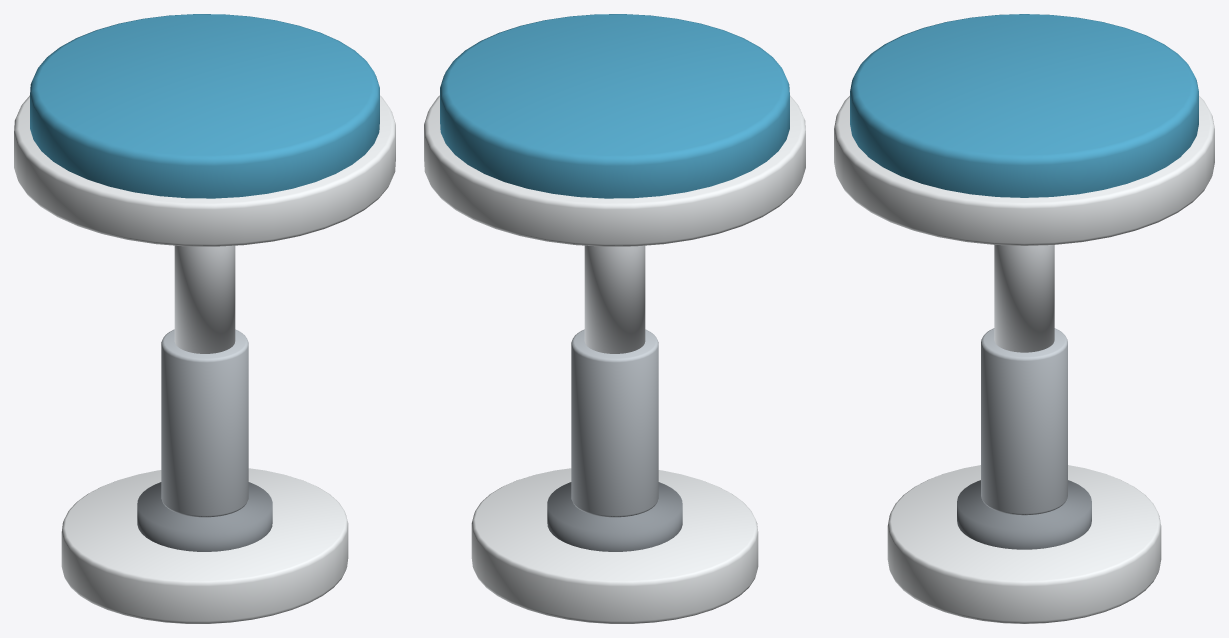
The model's file is scaun.fbx.
3 renders of one model, left to right at view 1: azimuth 30°, elevation 25°; view 2: azimuth 150°, elevation 25°; view 3: azimuth 270°, elevation 25°, orthographic.
Visible parts, largest first — view 1: Seat_Cushion, Seat_Base.001, Seat_Base, Lower_Column, Upper_Column, Center_Hub; view 2: Seat_Cushion, Seat_Base.001, Seat_Base, Lower_Column, Upper_Column, Center_Hub; view 3: Seat_Cushion, Seat_Base.001, Seat_Base, Lower_Column, Upper_Column, Center_Hub.
Boxes of the visible parts, left/top/right/bottom form: Seat_Cushion: left=30, top=14, right=379, bottom=198; Seat_Base.001: left=61, top=468, right=348, bottom=623; Seat_Base: left=14, top=95, right=395, bottom=246; Lower_Column: left=161, top=329, right=248, bottom=517; Upper_Column: left=174, top=245, right=235, bottom=353; Center_Hub: left=137, top=482, right=272, bottom=551; Seat_Cushion: left=440, top=14, right=789, bottom=198; Seat_Base.001: left=471, top=468, right=758, bottom=623; Seat_Base: left=424, top=95, right=805, bottom=246; Lower_Column: left=571, top=329, right=658, bottom=517; Upper_Column: left=584, top=245, right=645, bottom=353; Center_Hub: left=547, top=482, right=682, bottom=551; Seat_Cushion: left=850, top=14, right=1198, bottom=197; Seat_Base.001: left=887, top=465, right=1161, bottom=623; Seat_Base: left=834, top=96, right=1214, bottom=245; Lower_Column: left=981, top=328, right=1067, bottom=515; Upper_Column: left=994, top=245, right=1054, bottom=352; Center_Hub: left=957, top=480, right=1091, bottom=549.
Bounding box in the file's own units: 48 × 66.72 × 48.
